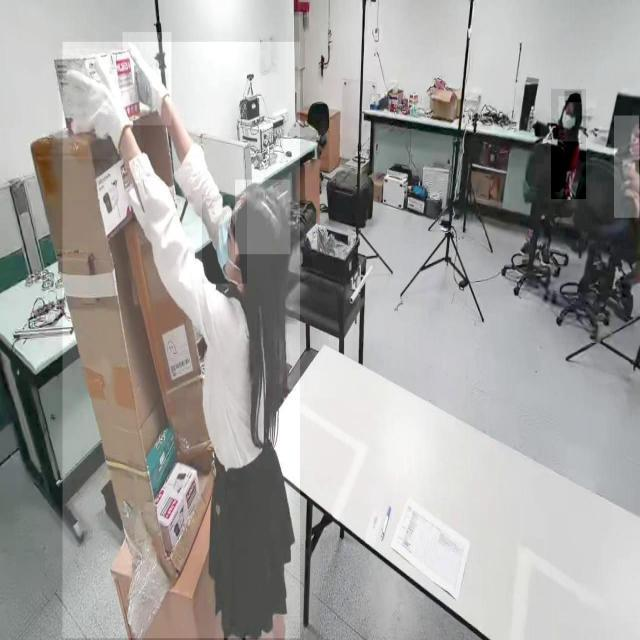gloves: (58, 49, 140, 159), (122, 32, 172, 126)
